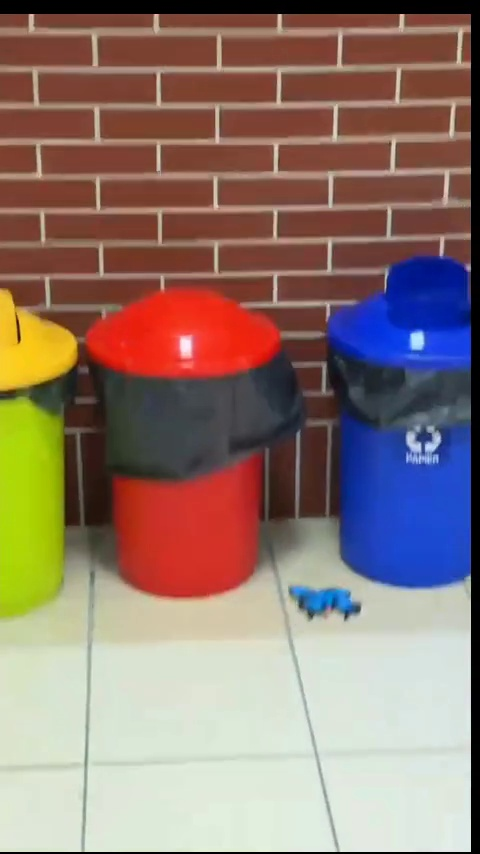drone: (287, 583, 362, 619)
